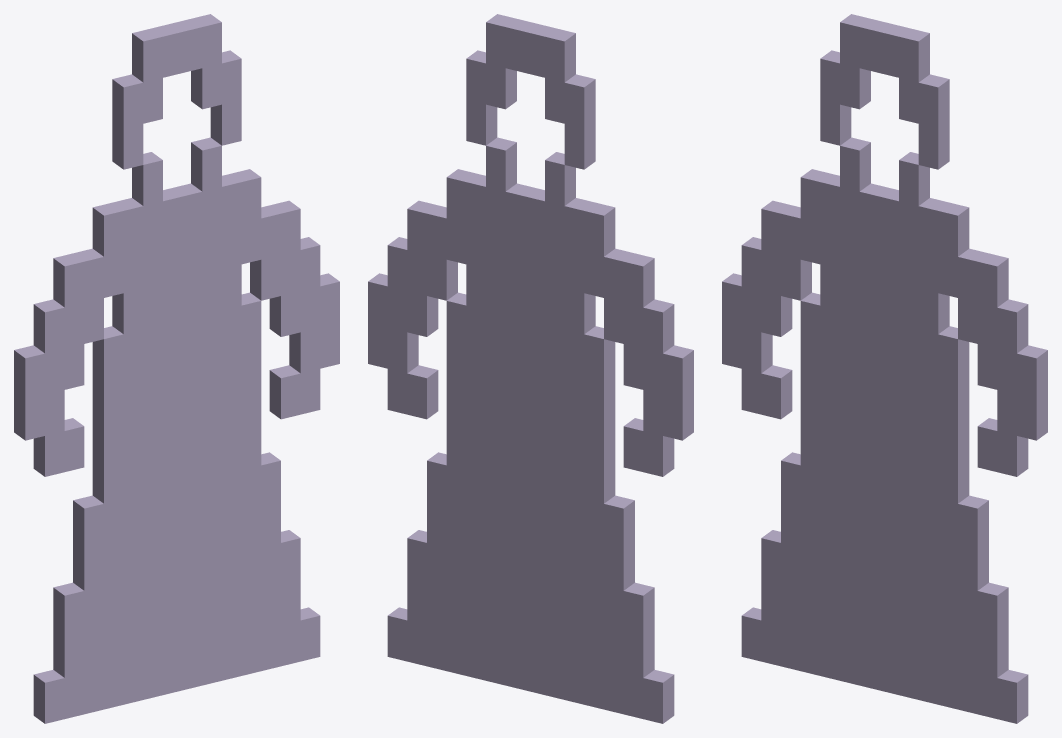
File: Wraith-Grey.vox.obj
3 renders of one model, left to right at view 1: azimuth 30°, elevation 25°; view 2: azimuth 150°, elevation 25°; view 3: azimuth 330°, elevation 25°, orthographic.
Bounding box in the file's own units: 1.6 × 3.2 × 0.1.
Materials: 1 (1 with a texture image).
